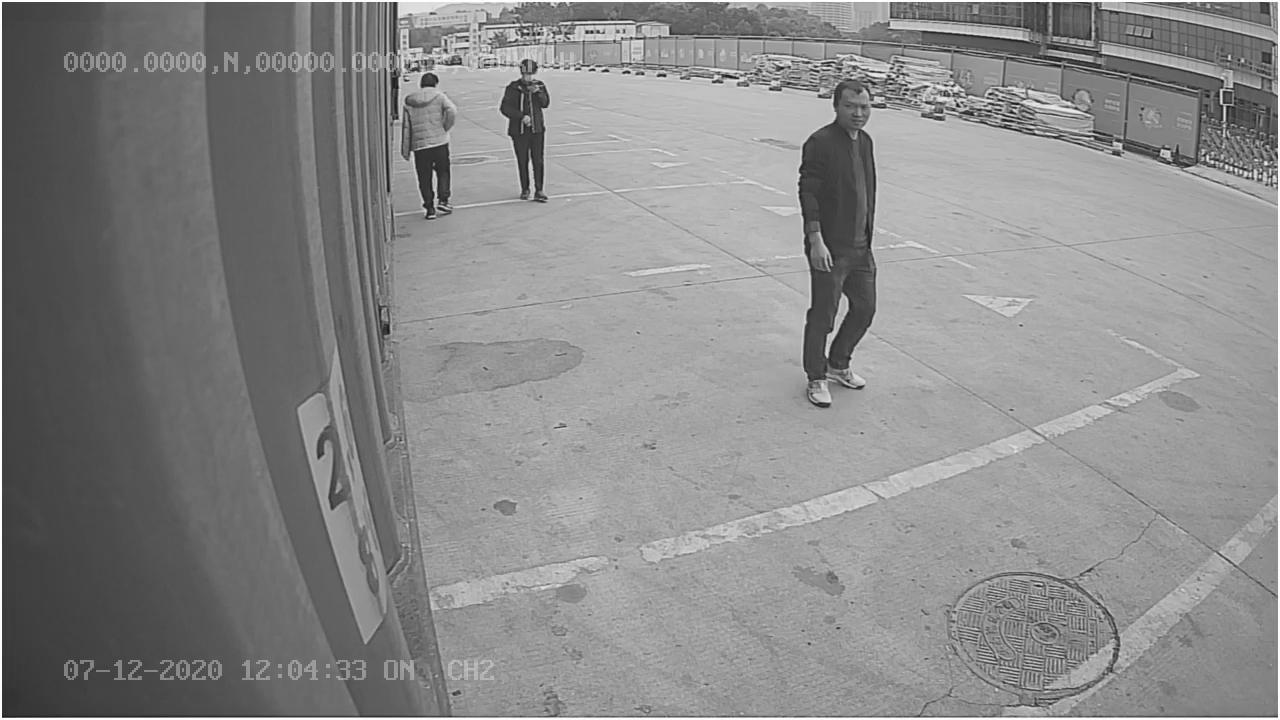person: (791, 75, 886, 412)
